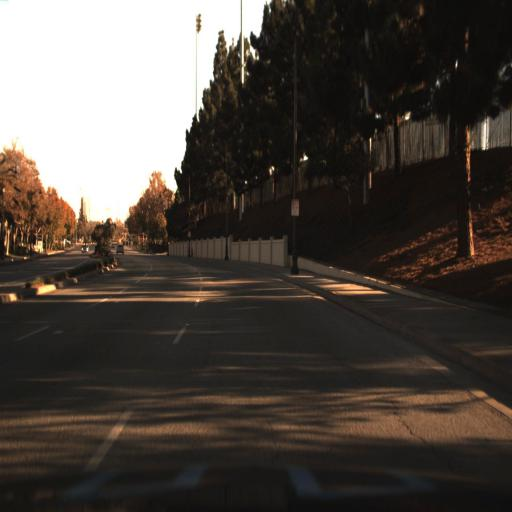car: (113, 237, 128, 260), (79, 234, 91, 256)
